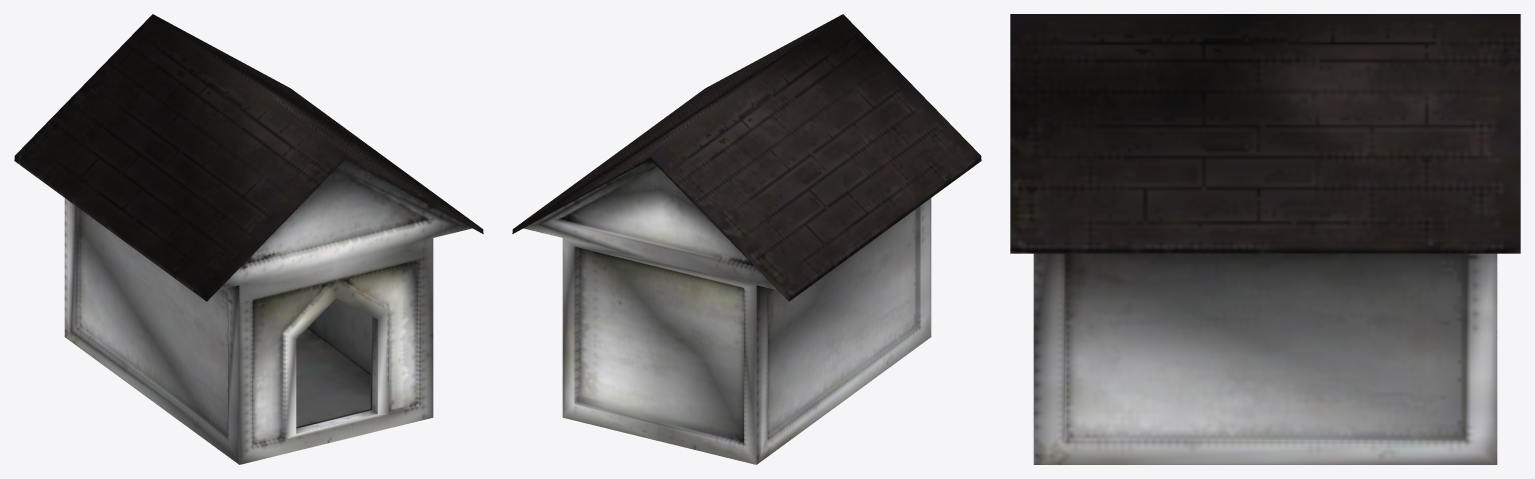
The model's file is frog_house.obj.
3 views of the same model, side by side, from view 1: azimuth 30°, elevation 25°; view 2: azimuth 150°, elevation 25°; view 3: azimuth 270°, elevation 25° (orthographic). The views are drawn at different scales.
Visible parts, largest first — view 1: frog_house; view 2: frog_house; view 3: frog_house.
Part boxes in pixels (<box>): frog_house: <box>14,14,483,464</box>; frog_house: <box>512,14,981,464</box>; frog_house: <box>1010,14,1520,464</box>.
Size of the model in its own units: 2.3 by 2.32 by 2.77.
Materials: 1 (1 with a texture image).
